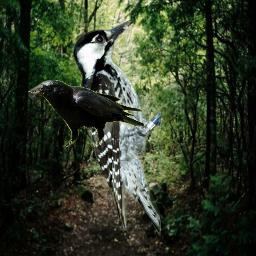Crow: (27, 80, 144, 147)
Woodpecker: (72, 19, 161, 236)
